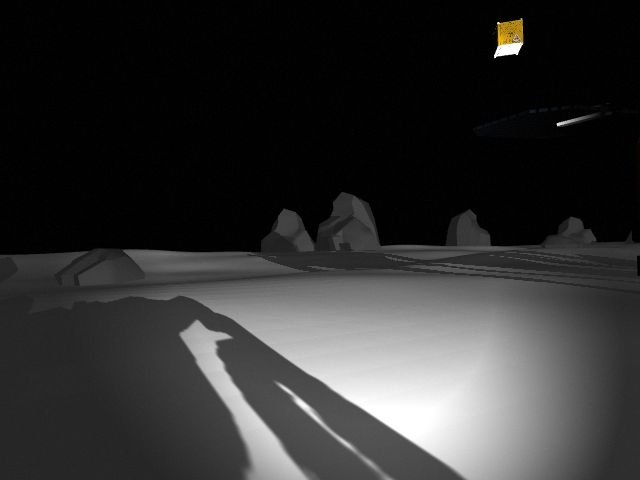cubesat: (482, 9, 532, 64)
